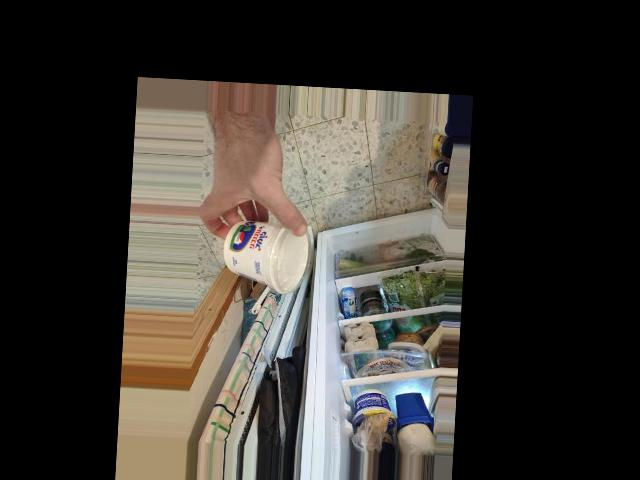cotage: (218, 211, 308, 292)
